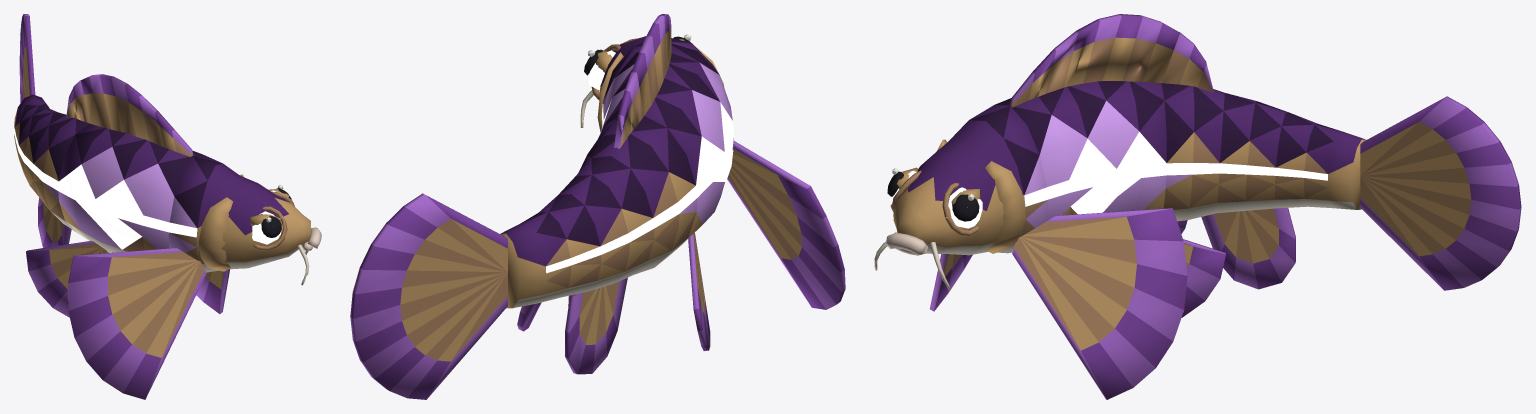
Rendered from carp-salve-carp.glb.
3 views of the same model, side by side, from view 1: azimuth 30°, elevation 25°; view 2: azimuth 150°, elevation 25°; view 3: azimuth 270°, elevation 25° (orthographic). The views are drawn at different scales.
Visible parts, largest first — view 1: wag_body_0, glide_fin_r, carp_head, wag_body_1, pulse_gill_r, wag_body_2, glide_fin_l, blink_eye_r; view 2: wag_body_1, wag_body_2, wag_body_0, glide_fin_r, carp_head, blink_eye_l; view 3: wag_body_1, wag_body_0, glide_fin_l, wag_body_2, carp_head, pulse_gill_l, glide_fin_r, blink_eye_l.
Boxes of the visible parts, box(x1,y1,x2,y2) form: wag_body_0: box(26, 74, 201, 317); glide_fin_r: box(68, 248, 206, 399); carp_head: box(168, 154, 321, 272); wag_body_1: box(14, 80, 89, 247); pulse_gill_r: box(198, 197, 233, 271); wag_body_2: box(19, 14, 35, 103); glide_fin_l: box(196, 269, 229, 313); blink_eye_r: box(252, 211, 281, 244); wag_body_1: box(500, 72, 697, 374); wag_body_2: box(350, 193, 507, 399); wag_body_0: box(568, 14, 733, 350); glide_fin_r: box(727, 141, 845, 309); carp_head: box(591, 36, 718, 120); blink_eye_l: box(584, 49, 615, 90); wag_body_1: box(1161, 32, 1366, 289); wag_body_0: box(995, 14, 1225, 317); glide_fin_l: box(1012, 208, 1187, 399); wag_body_2: box(1360, 96, 1521, 290); carp_head: box(885, 105, 1047, 255); pulse_gill_l: box(985, 161, 1025, 253); glide_fin_r: box(930, 254, 972, 311); blink_eye_l: box(948, 187, 982, 228).
Bounding box in the file's own units: 0.4456 × 0.5039 × 0.9159.
